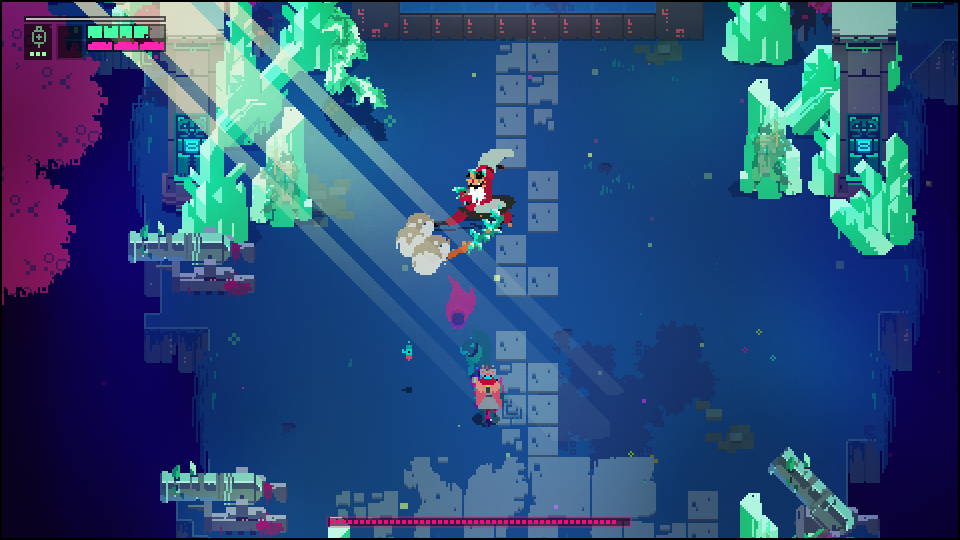hanged_man: (429, 145, 516, 254)
player: (473, 364, 504, 425)
